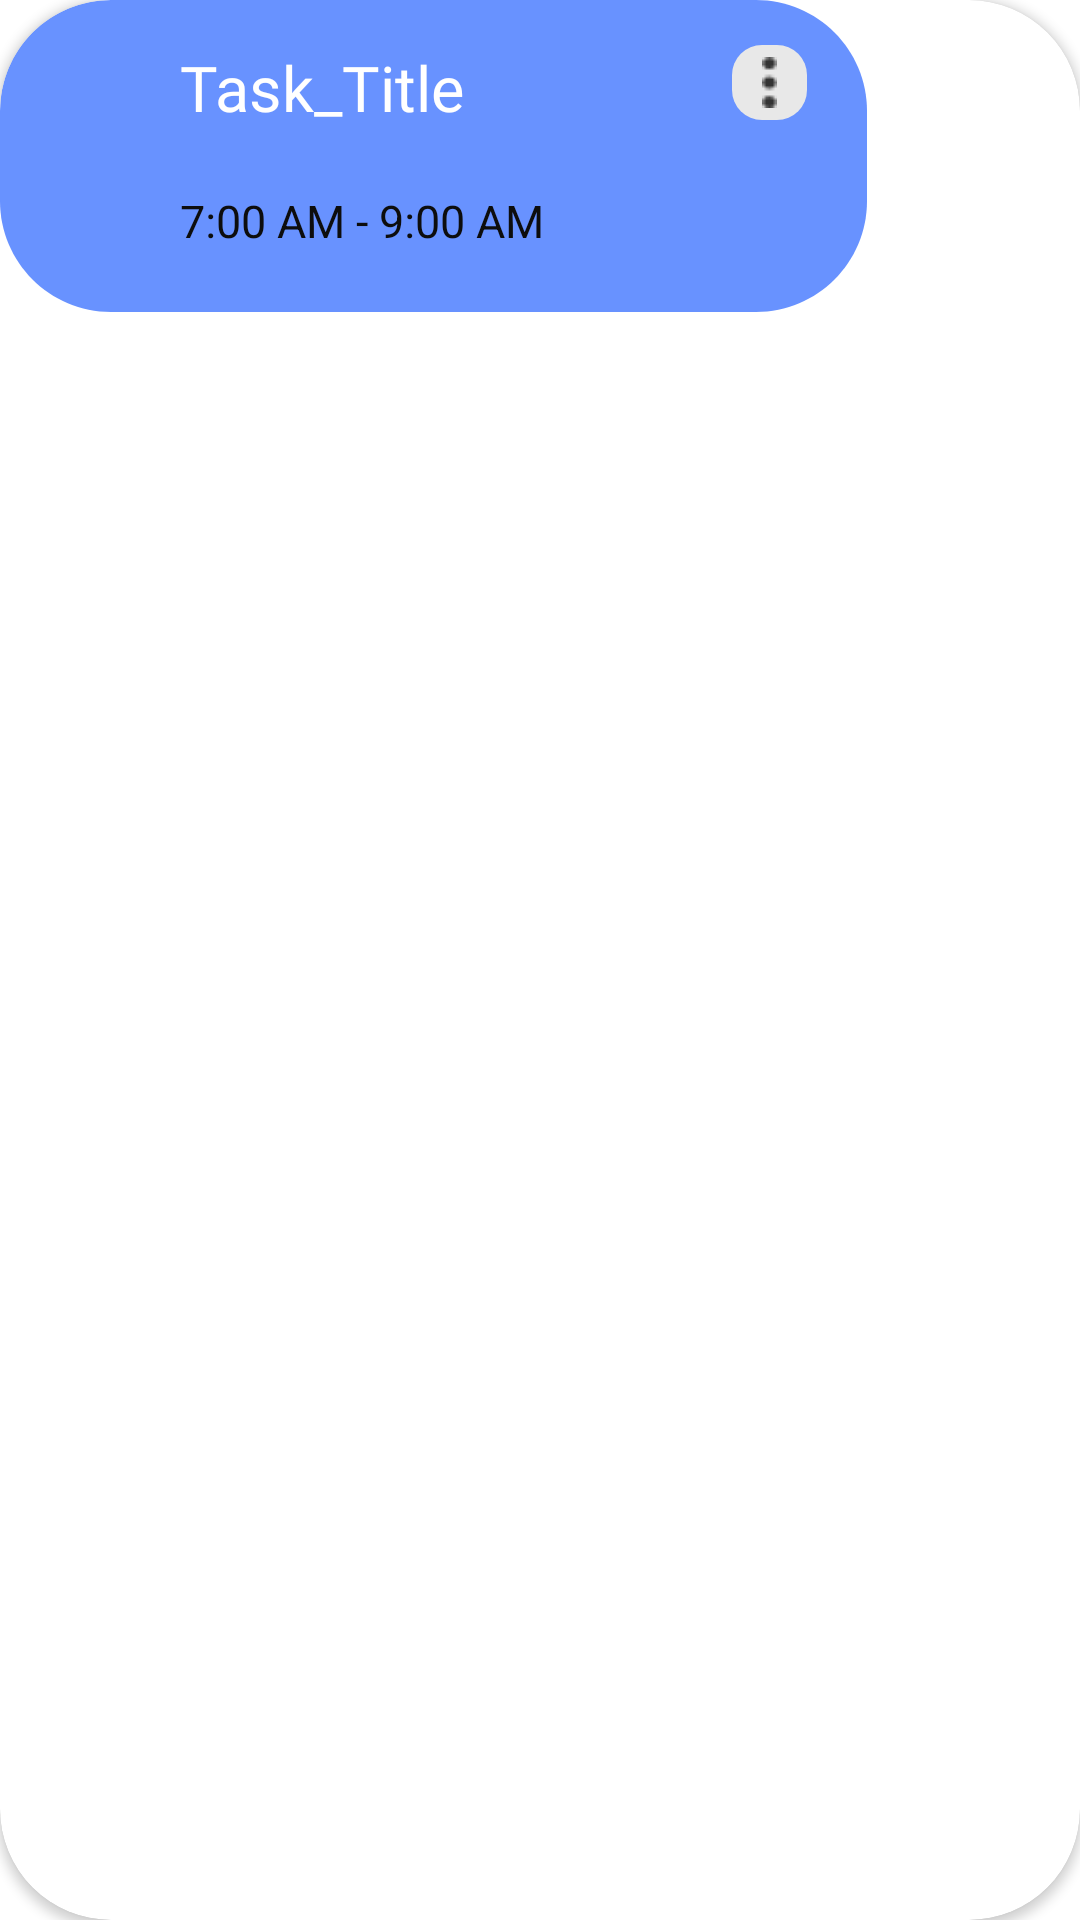

Icon bounding boxes for this 1080*1920 phone screenshot, format (x1, y1, x2, y2):
dots: (732, 45, 807, 120)
